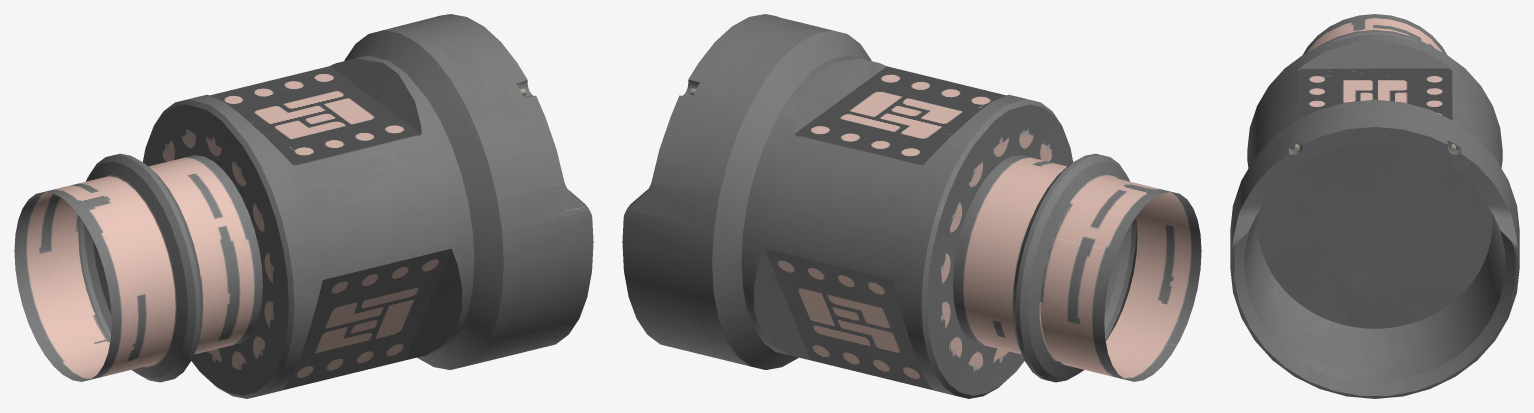
The model's file is guard_16_u_c.glb.
3 renders of one model, left to right at view 1: azimuth 30°, elevation 25°; view 2: azimuth 150°, elevation 25°; view 3: azimuth 270°, elevation 25°, orthographic. The views are drawn at different scales.
Parts seen in each view (by area): view 1: guard_16_u_c_lod0; view 2: guard_16_u_c_lod0; view 3: guard_16_u_c_lod0.
Boxes of the visible parts, x1,y1,x2,y2 form: guard_16_u_c_lod0: (14, 14, 593, 398); guard_16_u_c_lod0: (622, 14, 1201, 398); guard_16_u_c_lod0: (1230, 14, 1519, 398).
Size of what is drawn, in the model's own units: 0.0556 by 0.0375 by 0.0375.
Materials: 1 (1 with a texture image).
